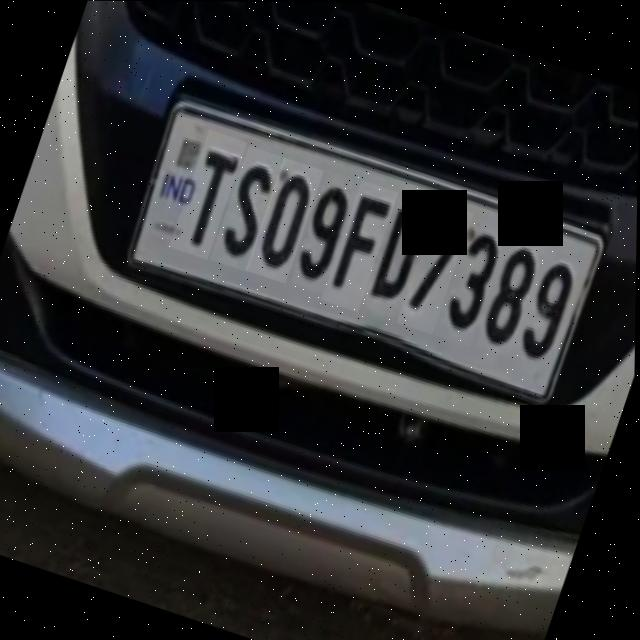0: (246, 157, 325, 283)
3: (435, 217, 511, 347)
7: (397, 201, 475, 334)
8: (477, 230, 549, 356)
9: (510, 243, 588, 377), (291, 169, 362, 293)
D: (361, 193, 438, 320)
F: (321, 179, 399, 312)
S: (211, 145, 286, 272)
T: (170, 129, 248, 259)
